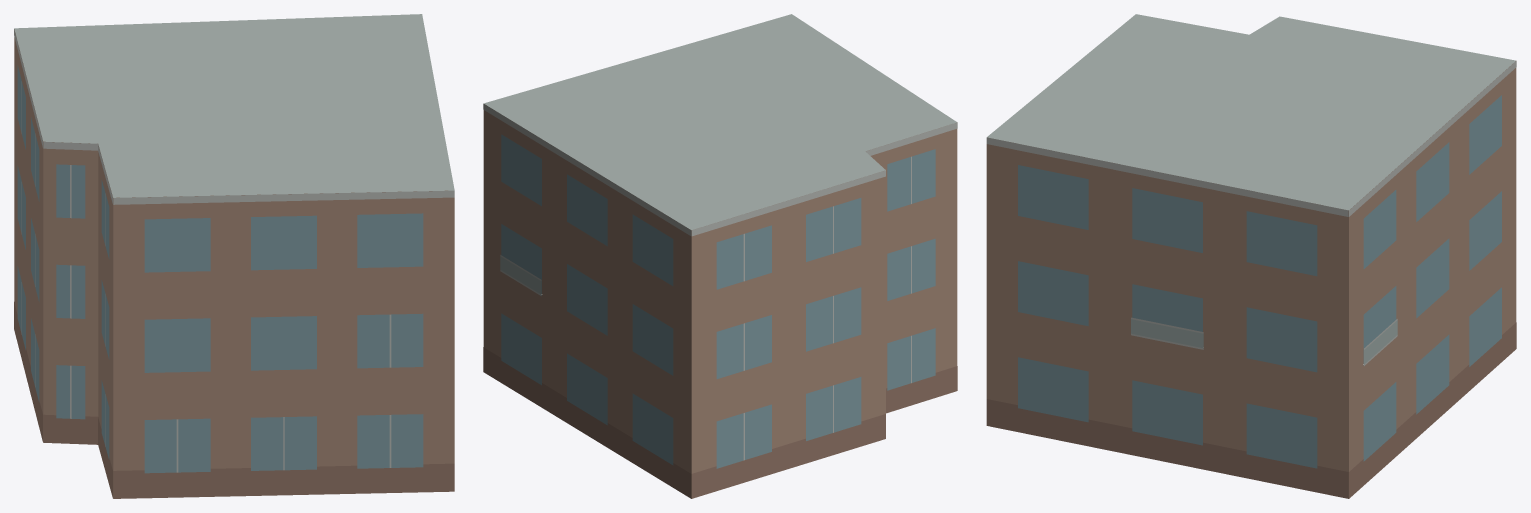
Rendered from survey-upis-32764230.glb.
The picture shows the model from 3 angles, left to right: view 1: azimuth 30°, elevation 25°; view 2: azimuth 150°, elevation 25°; view 3: azimuth 270°, elevation 25°; orthographic projection. The views are drawn at different scales.
Parts seen in each view (by area): view 1: survey-upis-32764230.tmp; view 2: survey-upis-32764230.tmp; view 3: survey-upis-32764230.tmp.
Part boxes in pixels (x1,y1,x2,y2): survey-upis-32764230.tmp: (14,14,454,498); survey-upis-32764230.tmp: (483,14,957,498); survey-upis-32764230.tmp: (986,14,1516,498).
Size of the model in its own units: 15.35 by 10.5 by 17.49.
